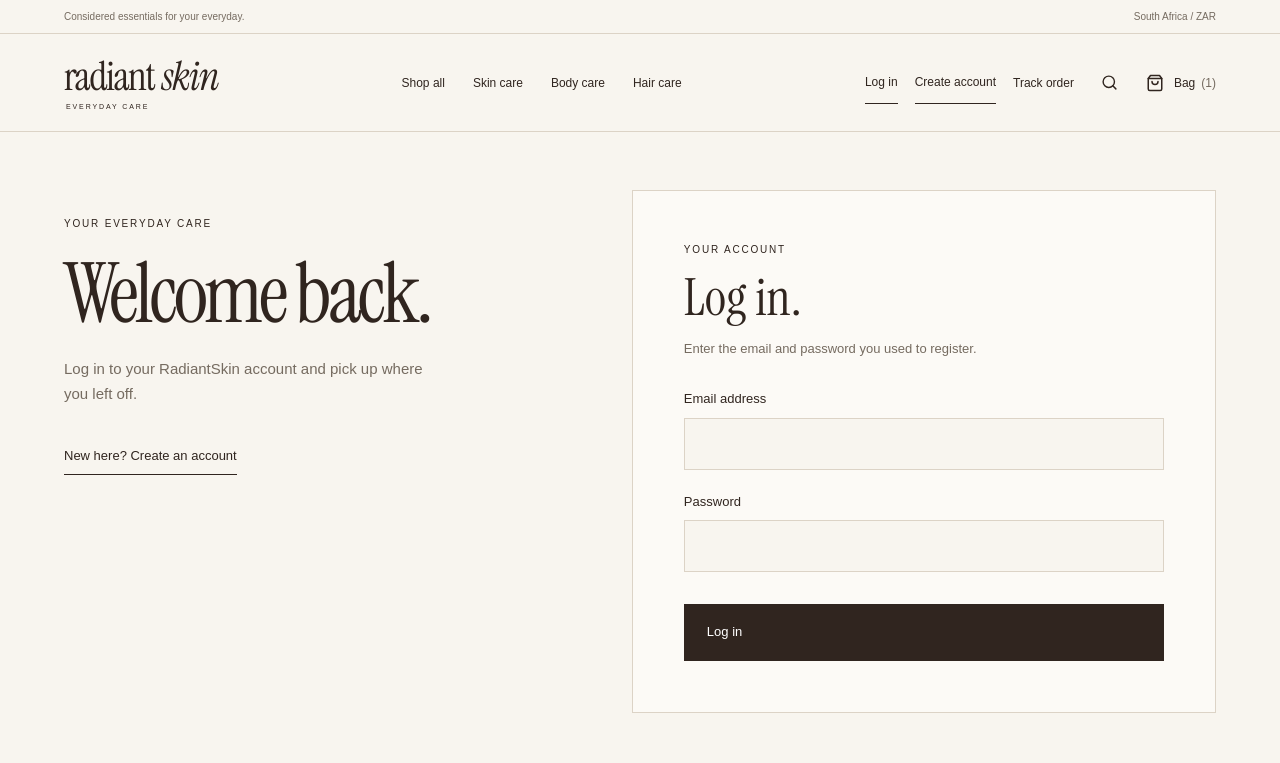
Test case: returns to checkout after login and prefills the customer details
Type "Sam@Example.com" into the field labelled "Email address".
click(924, 444); type("Sam@Example.com")  # box top-left (684, 418), bottom-right (1164, 470)
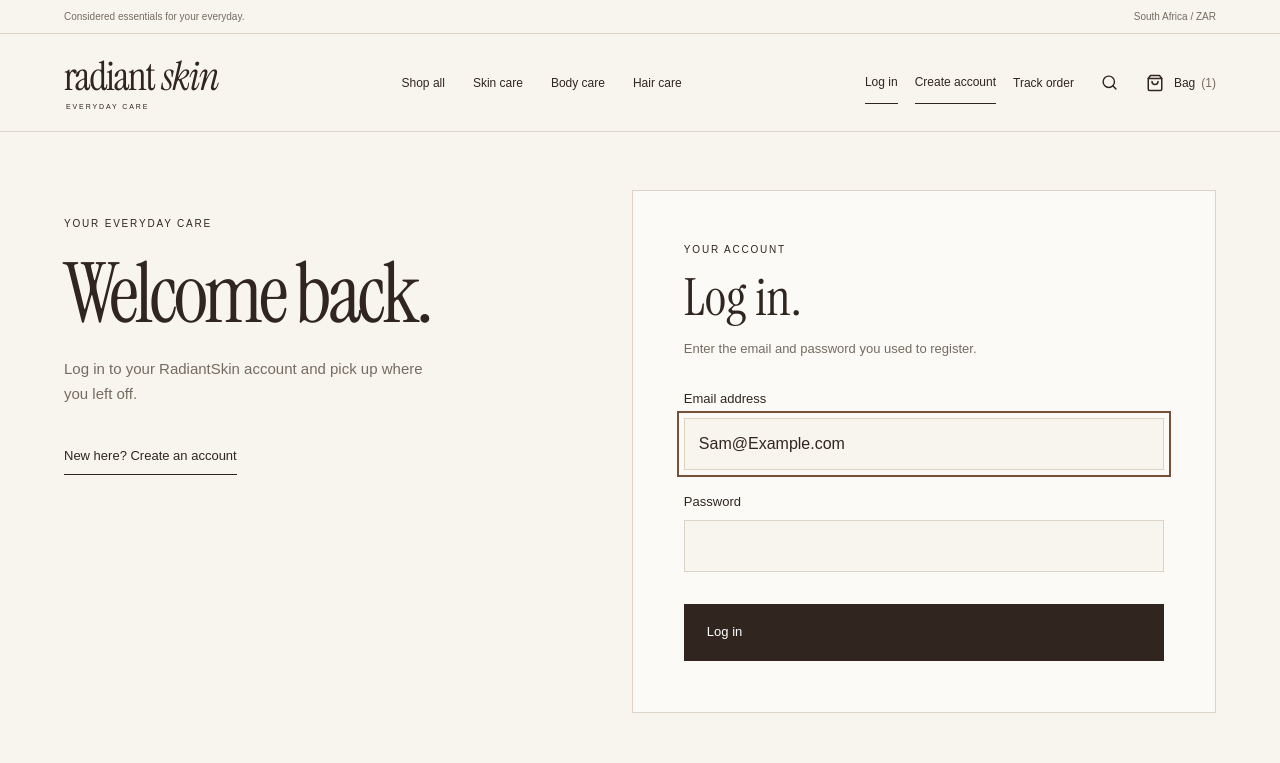
Type "SchoolLogin!2026" into the password field labelled "Password".
click(924, 546); type("SchoolLogin!2026")  # box top-left (684, 520), bottom-right (1164, 572)
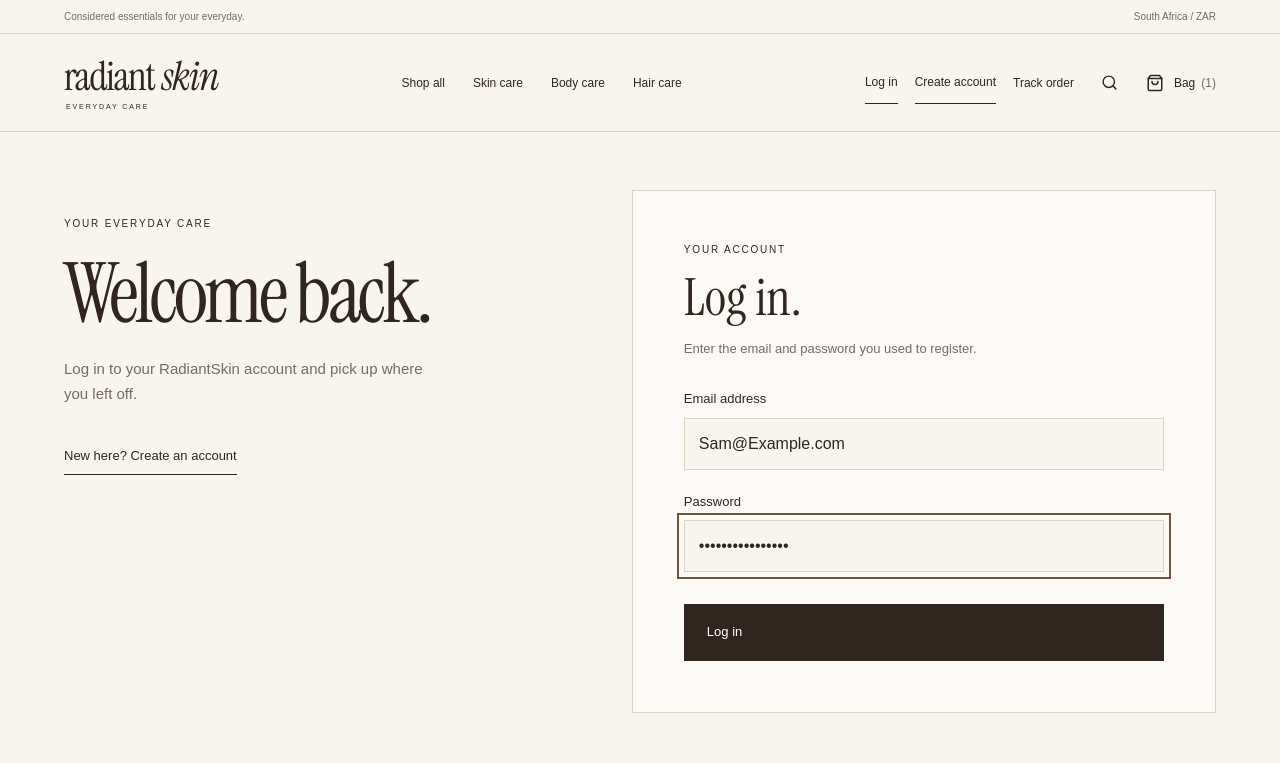
Click the button "Log in".
click(725, 632)  # box top-left (684, 604), bottom-right (1164, 661)
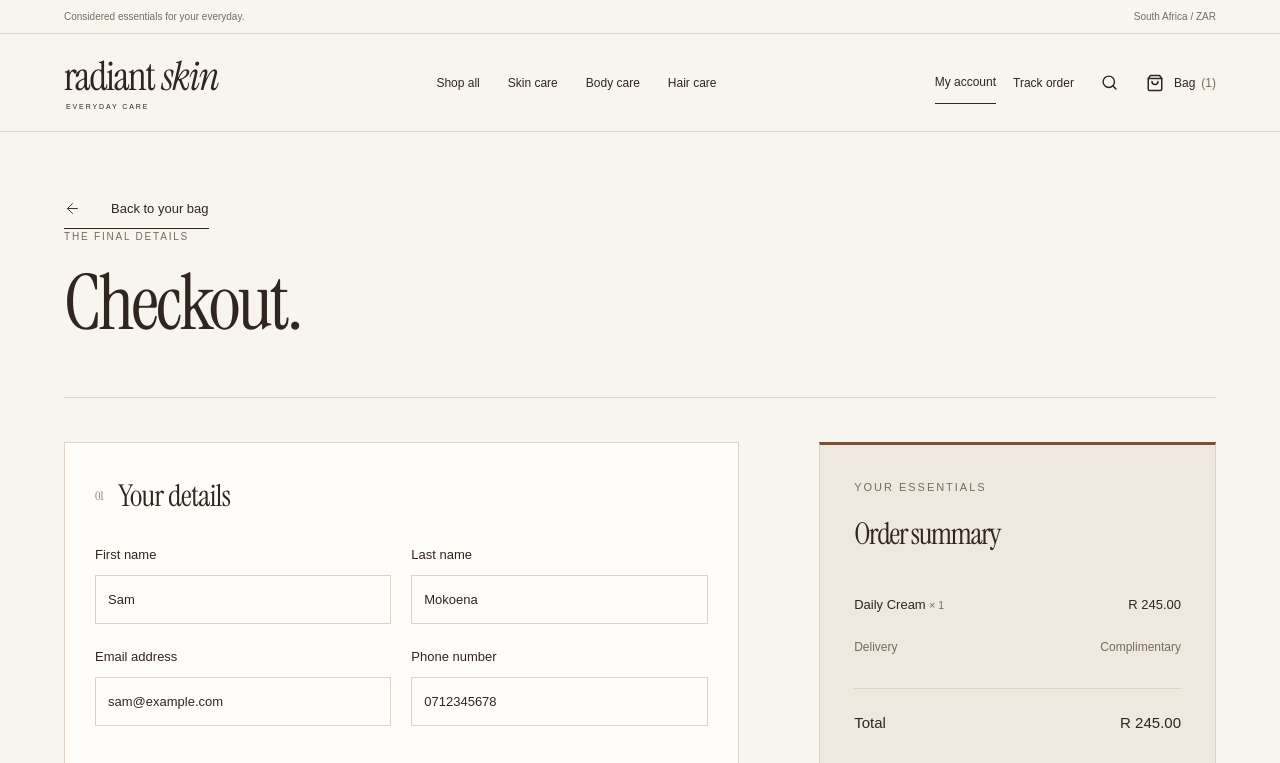
Expected: the field labelled "First name" holds "Sam", top-left (95, 575), bottom-right (391, 624)
Expected: the field labelled "Email address" holds "sam@example.com", top-left (95, 677), bottom-right (391, 726)
Expected: the field labelled "Phone number" holds "0712345678", top-left (411, 677), bottom-right (708, 726)
